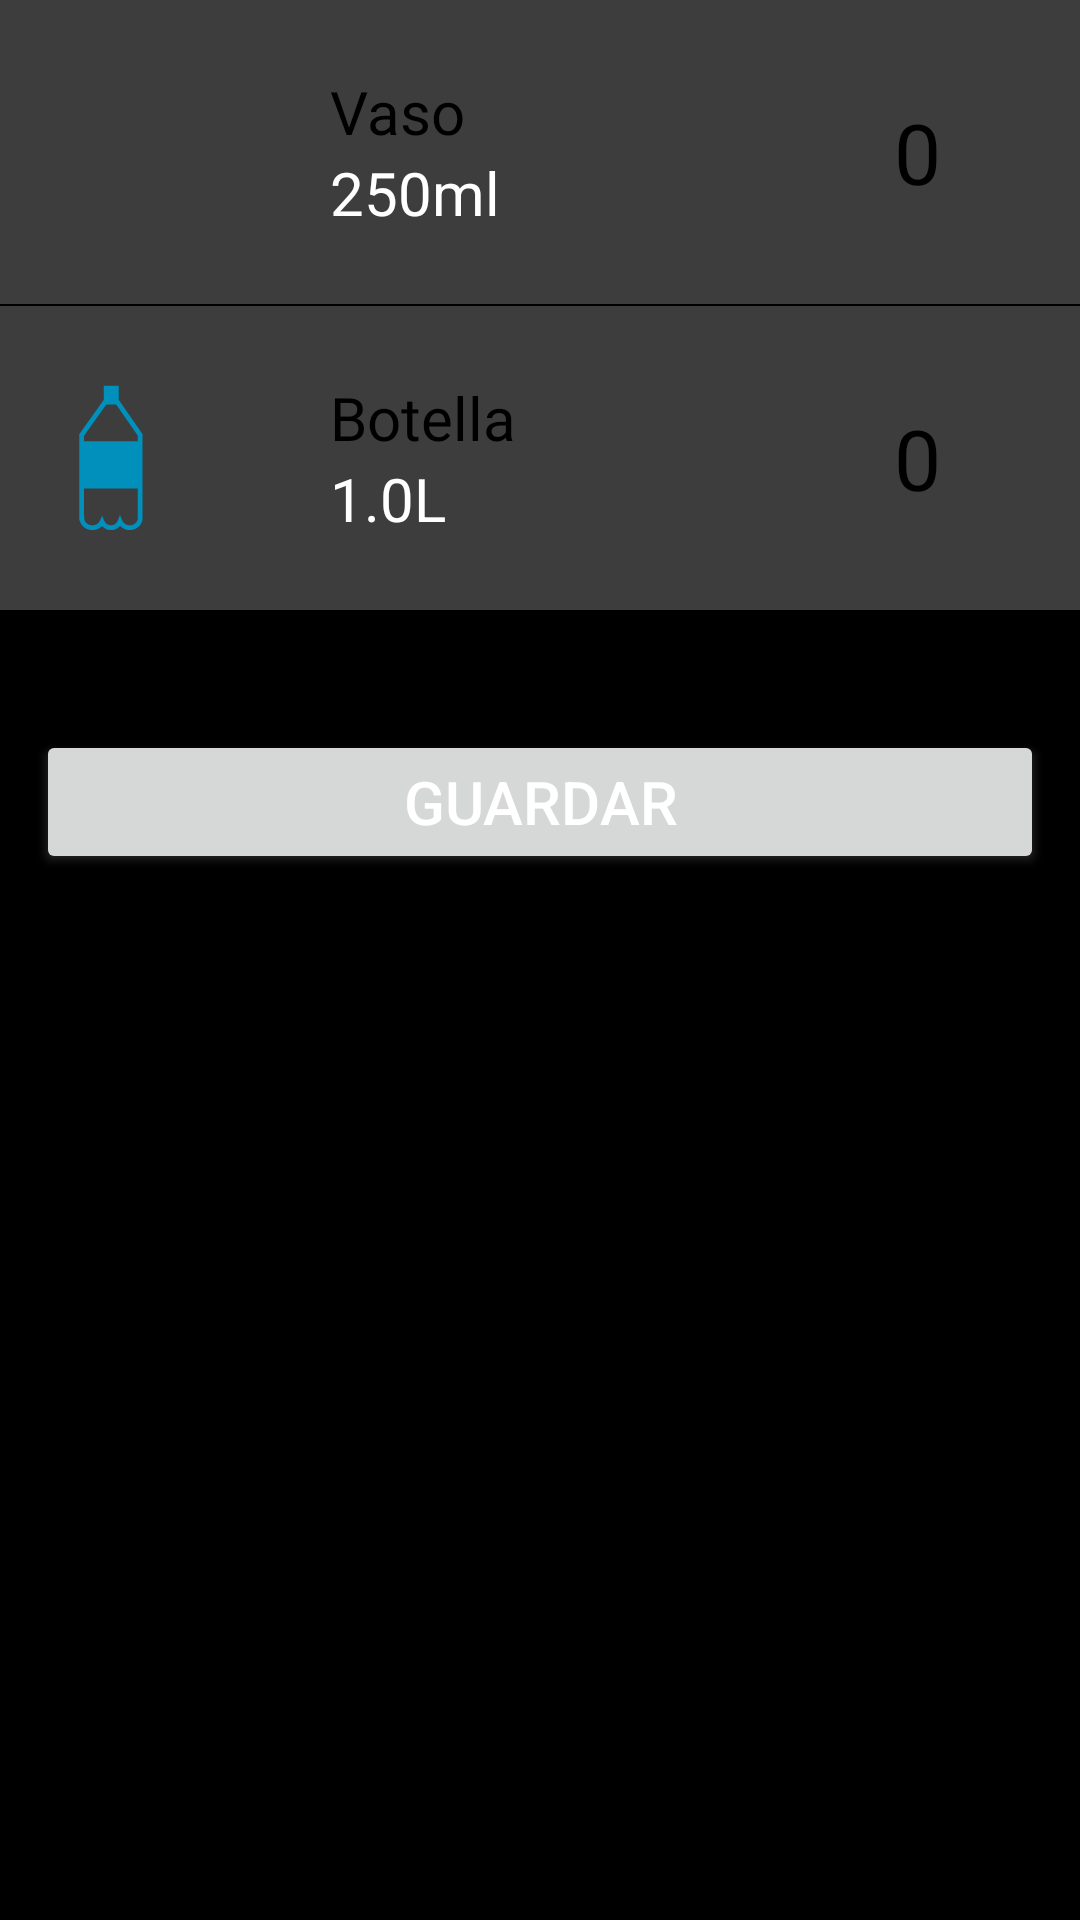

Point at icon controls on the screen. Image size 1080w x 1920h, points as (x=x, y=y).
bottle icon: (x=111, y=457)
